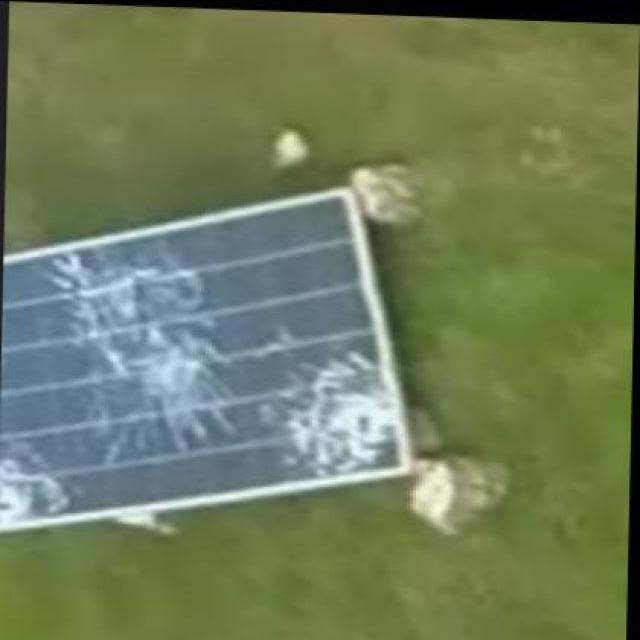cracked: (2, 188, 406, 536)
